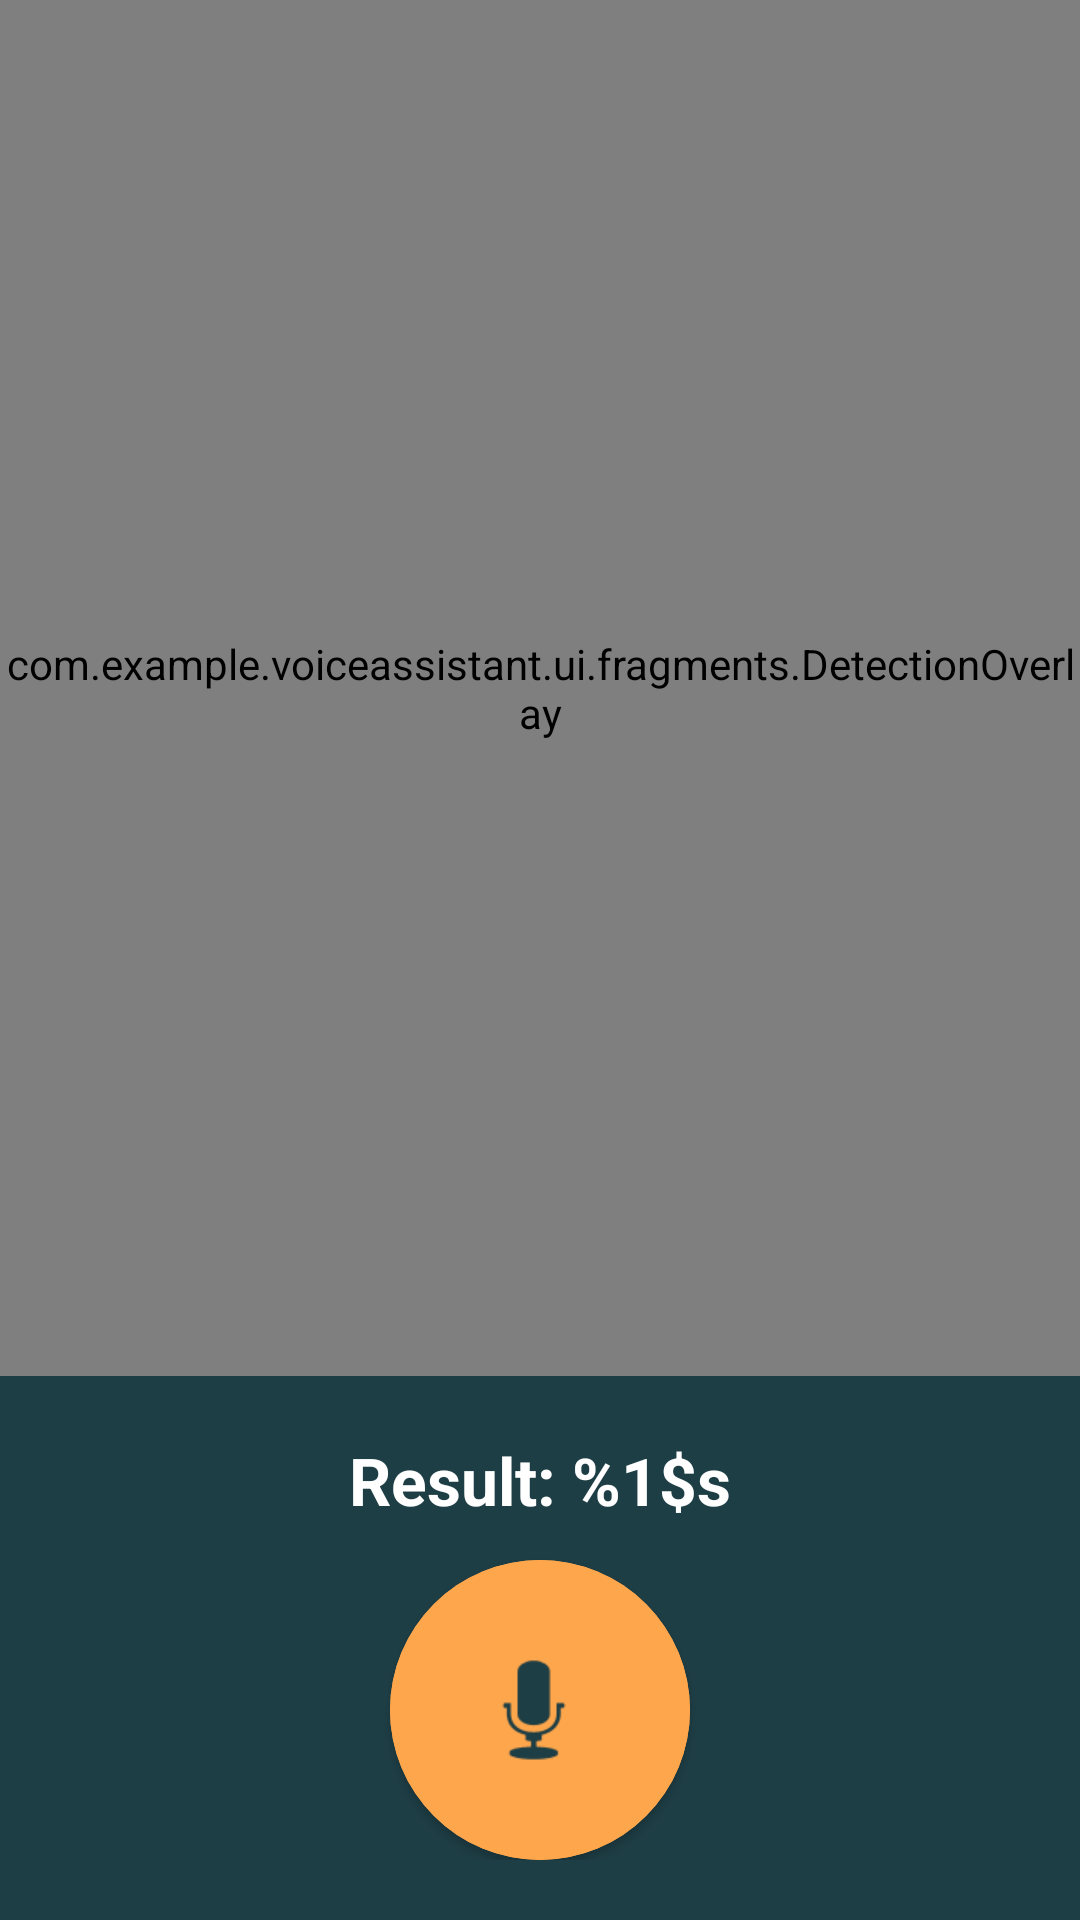

Where icons sit on this 1080*1920 app screen, as (x1, y1, x2, y2):
speak now: (390, 1560, 690, 1860)
